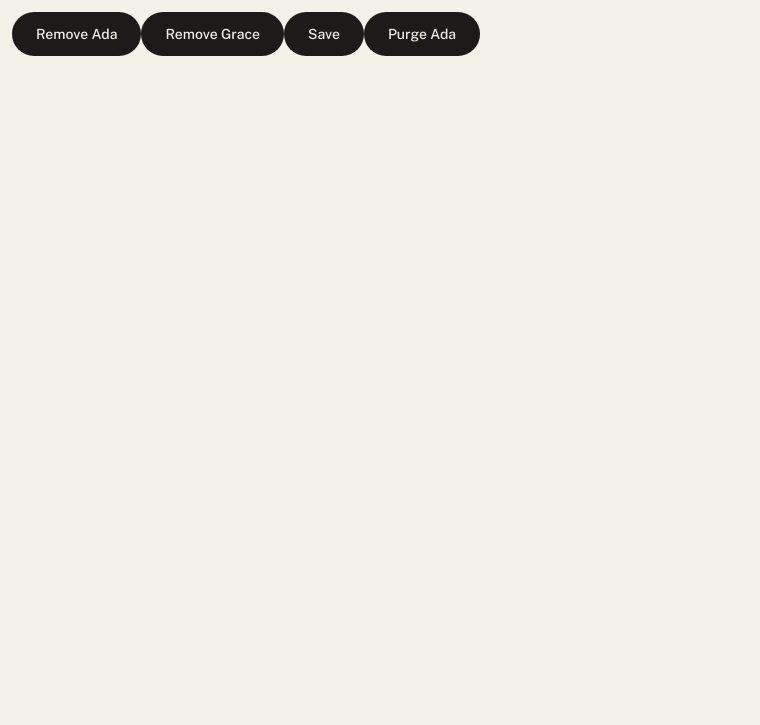
Toast › announces its message in a status region, with its action
This screenshot has width=760, height=725.
Click the button "Remove Ada". click: (77, 34)
box: [12, 12, 142, 56]
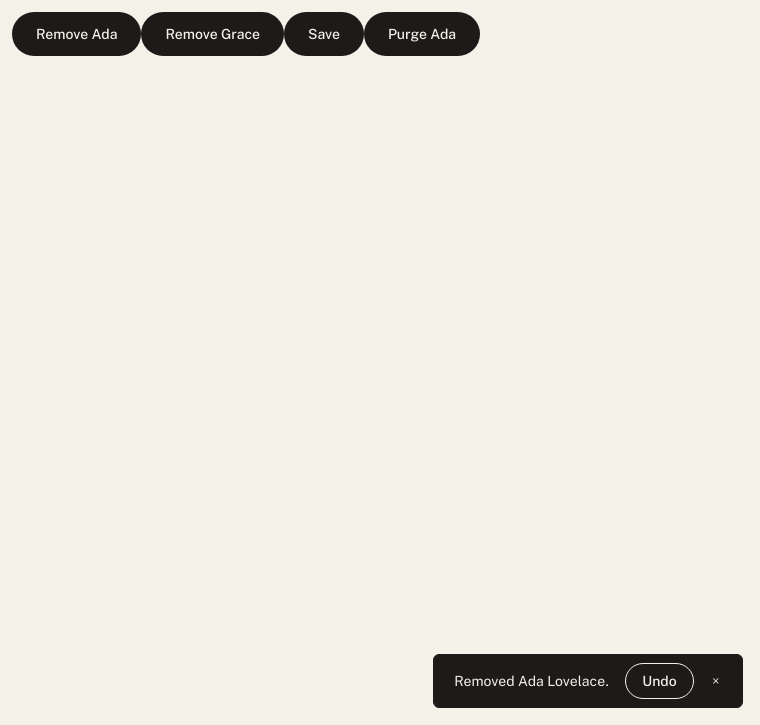
Expected: the message shows "Removed Ada Lovelace.", [454, 672, 609, 688]
Expected: the button "Undo" is shown, [625, 663, 694, 699]
